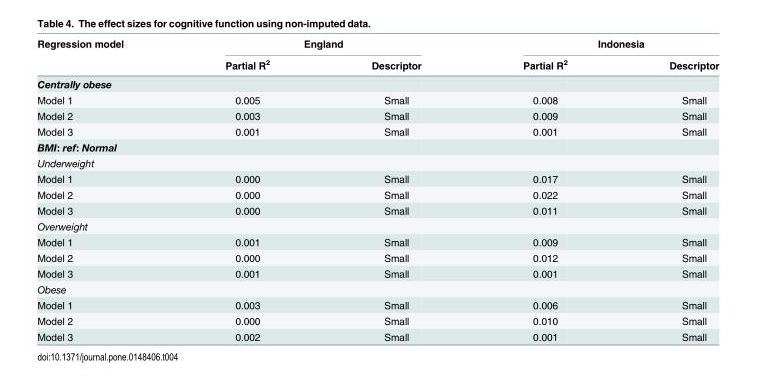table: (36, 37, 718, 342)
table column: (320, 37, 471, 342), (173, 37, 320, 342), (471, 37, 617, 342), (36, 37, 173, 342), (617, 37, 718, 342)
table column header: (36, 37, 718, 74)
table projected row header: (36, 74, 718, 92), (36, 138, 718, 155), (36, 280, 718, 297), (36, 217, 718, 233), (36, 155, 718, 170)
table row: (36, 53, 718, 74), (36, 74, 718, 92), (36, 138, 718, 155), (36, 280, 718, 297), (36, 37, 718, 53), (36, 107, 718, 123), (36, 170, 718, 186), (36, 186, 718, 202), (36, 217, 718, 233), (36, 233, 718, 249), (36, 249, 718, 265), (36, 312, 718, 328), (36, 92, 718, 107), (36, 123, 718, 138), (36, 155, 718, 170), (36, 202, 718, 217), (36, 265, 718, 280), (36, 297, 718, 312), (36, 328, 718, 342)
table spanning cell: (36, 37, 173, 74), (173, 37, 471, 53), (471, 37, 718, 53)
